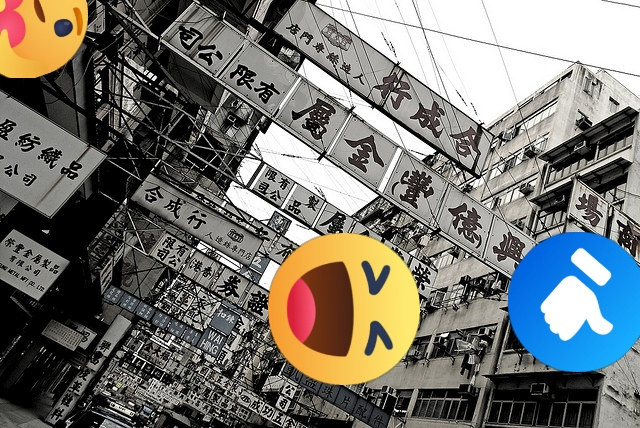care: (0, 0, 88, 78)
haha: (268, 233, 420, 385)
like: (508, 232, 640, 372)
